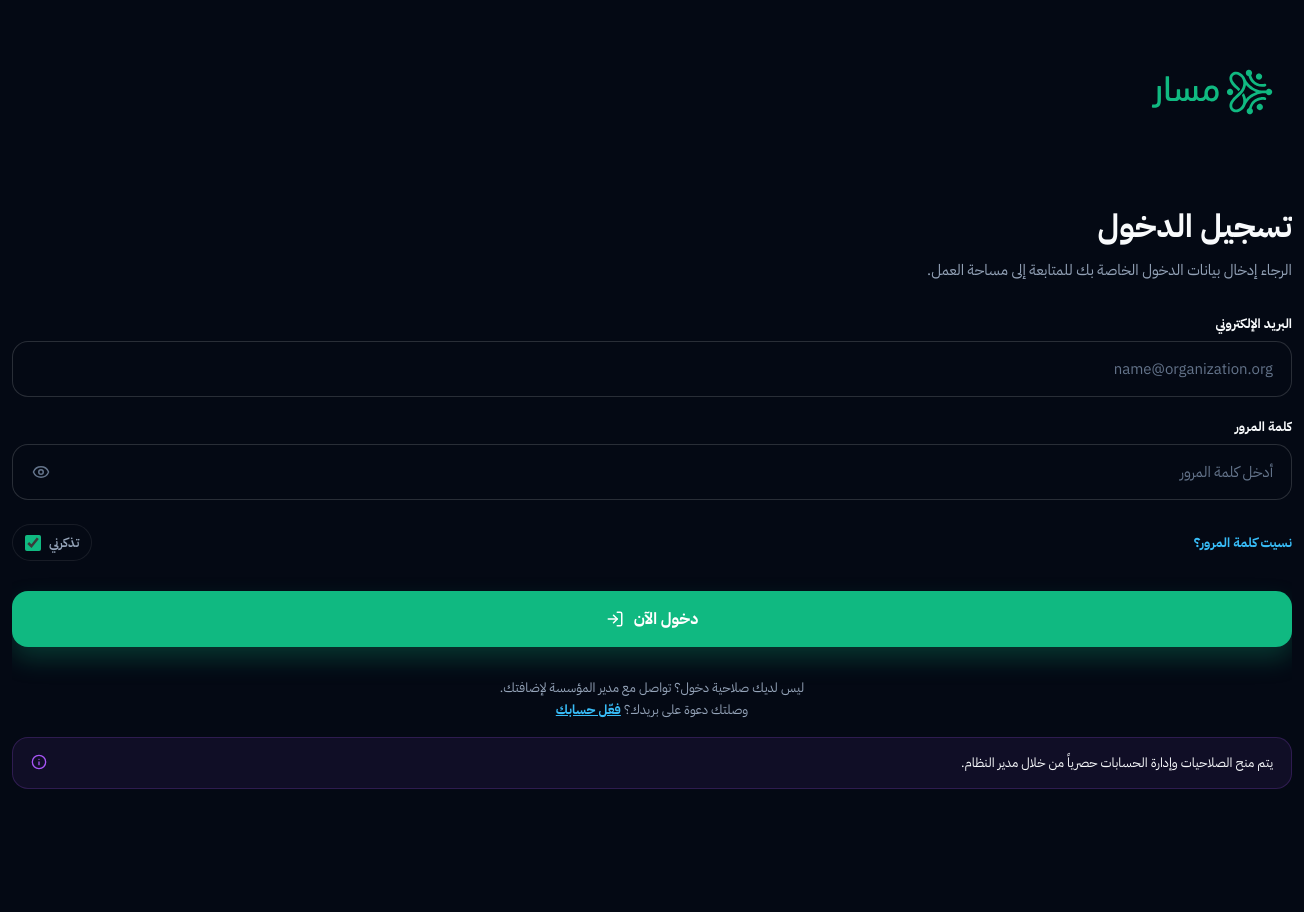
Test: login: a blocked organization › suspended: says so, with the reason the operator gave
Type "a@org.org" into the field labelled "البريد الإلكتروني".
click(652, 369); type("a@org.org")  # box [12,341,1292,397]
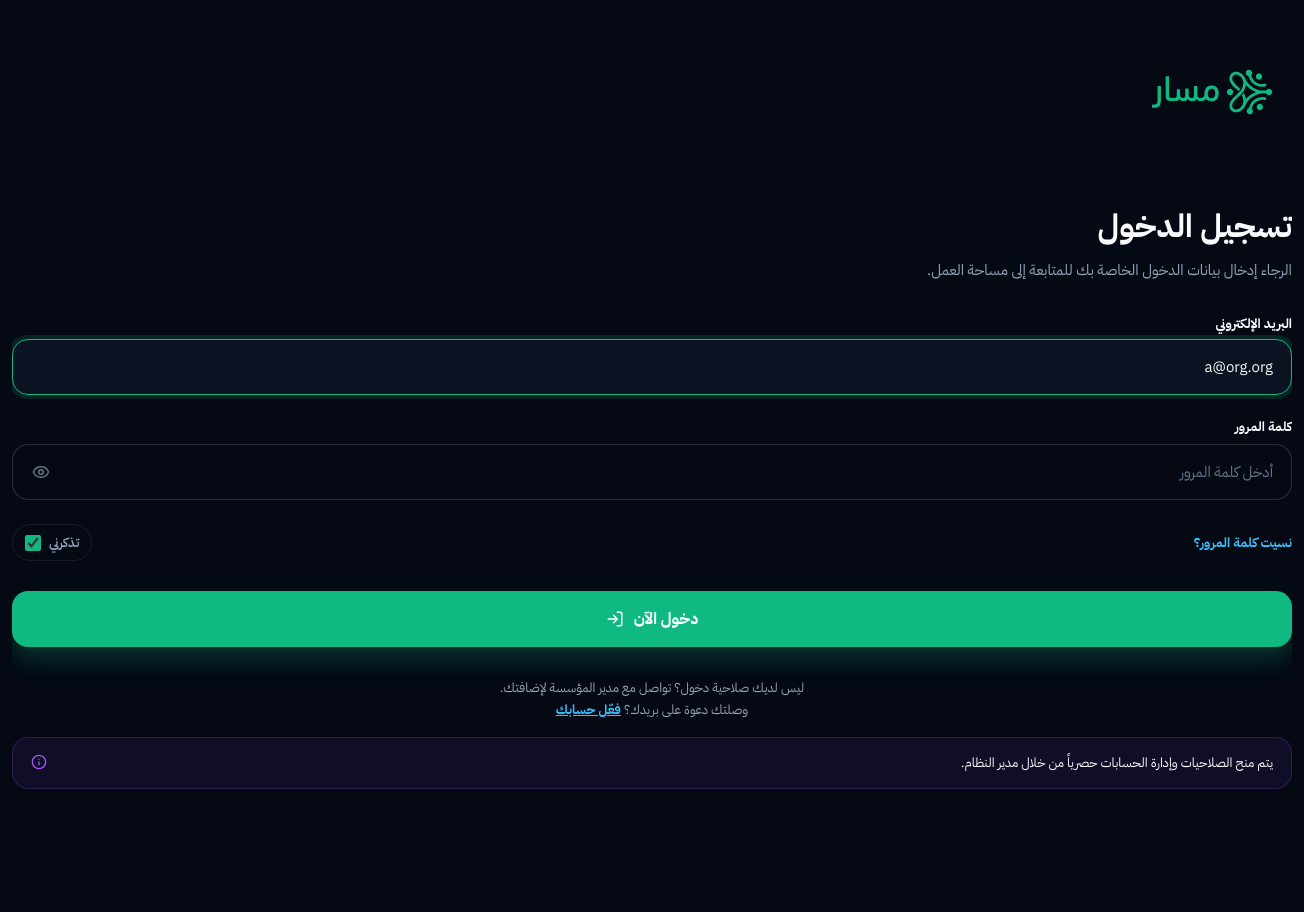
Type "Passw0rd!" into the password field labelled "كلمة المرور".
click(652, 472); type("Passw0rd!")  # box [12,444,1292,500]
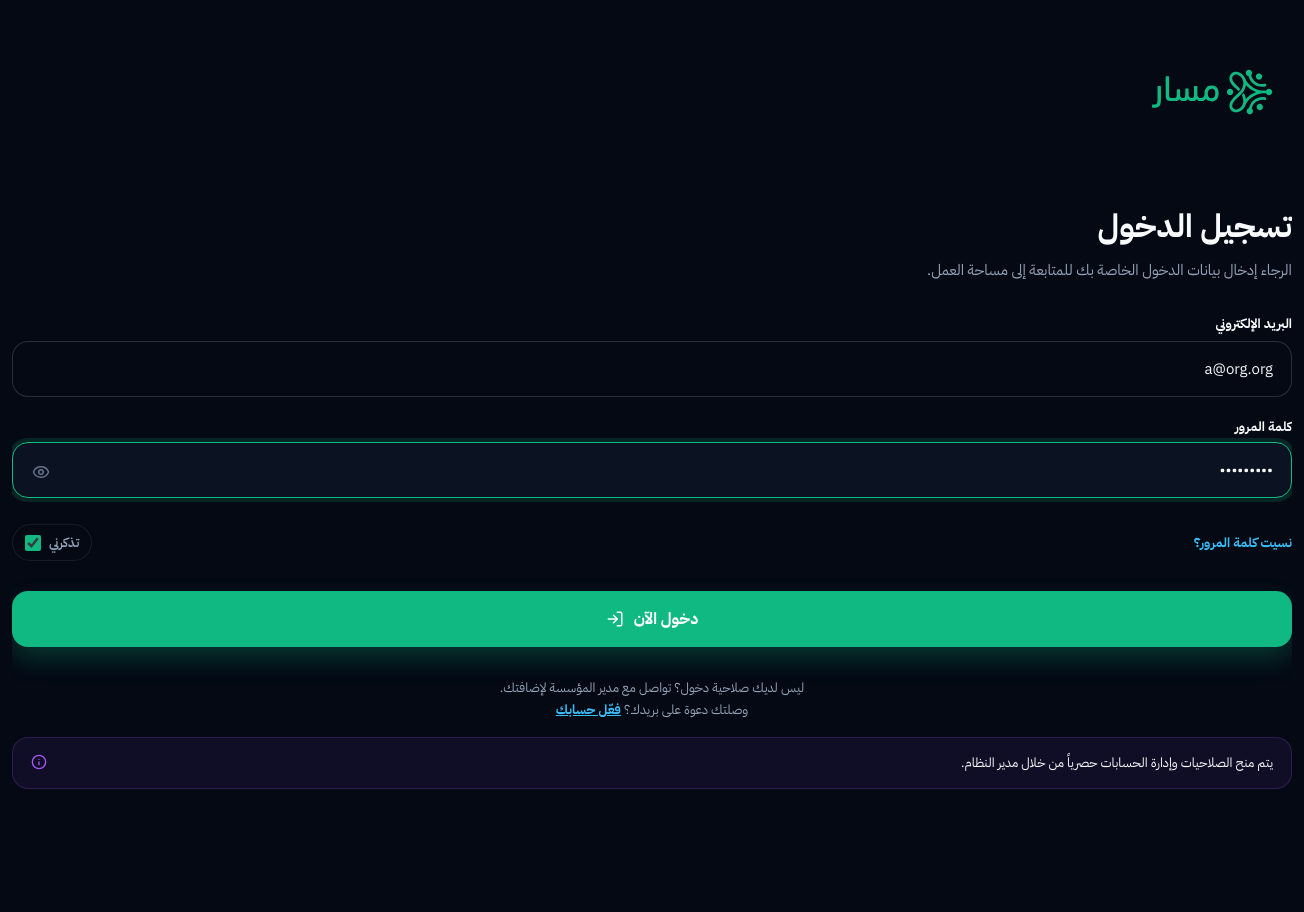
Click the button "دخول الآن".
click(652, 619)  # box [12,591,1292,647]
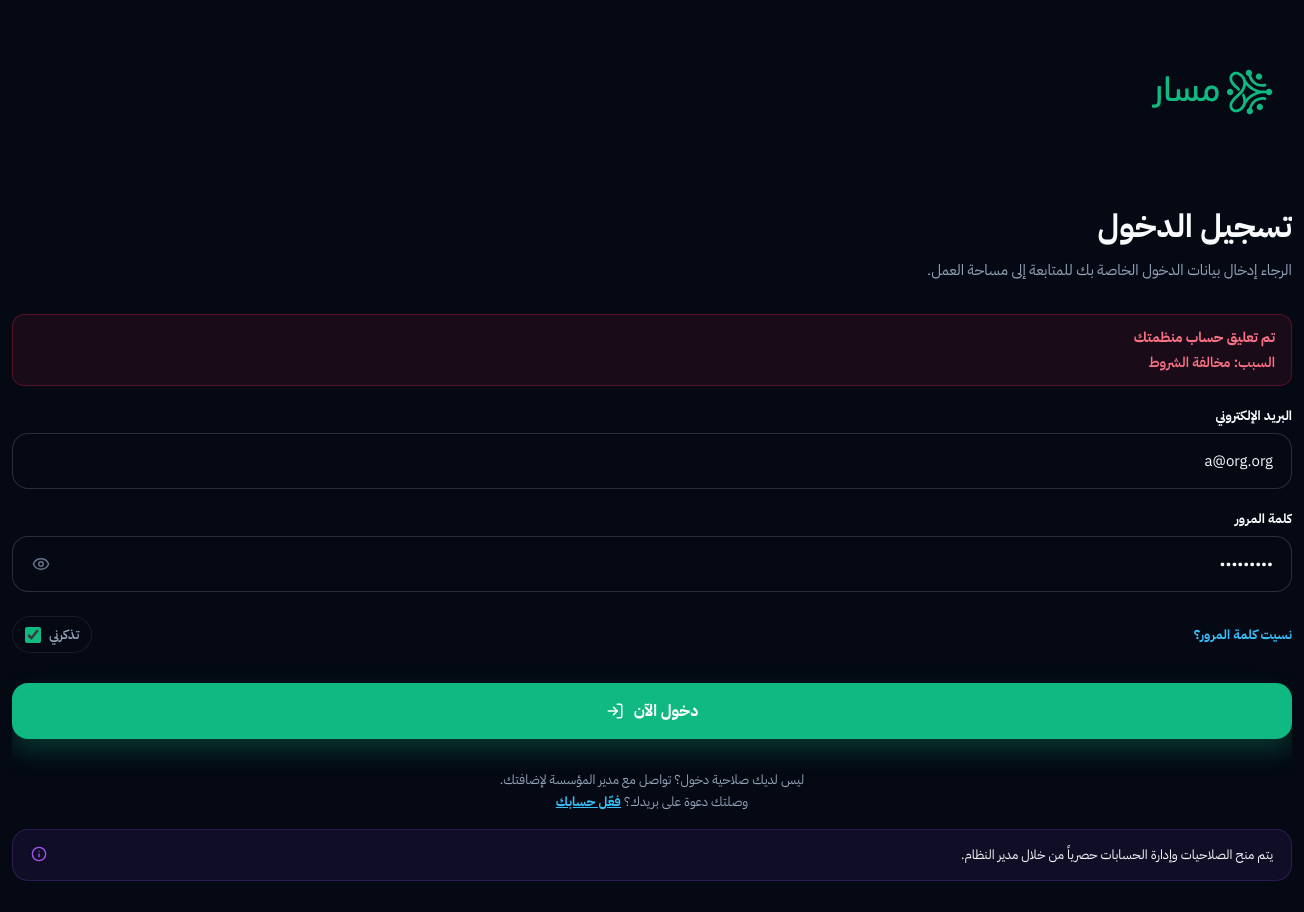
Expected: the message shows "تم تعليق حساب منظمتك", [1134,327,1275,348]
Expected: the message shows "السبب: مخالفة الشروط", [1149,352,1275,373]
